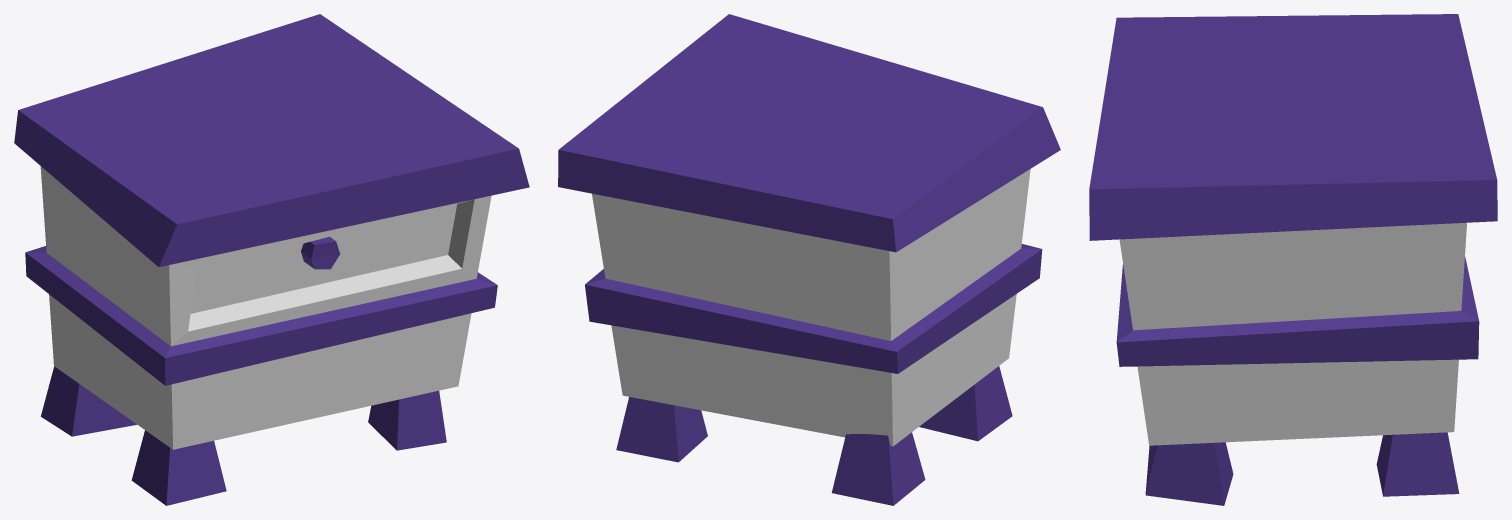
Rendered from desk_test.fbx.
3 views of the same model, side by side, from view 1: azimuth 30°, elevation 25°; view 2: azimuth 150°, elevation 25°; view 3: azimuth 270°, elevation 25° (orthographic). The views are drawn at different scales.
Visible parts, largest first — view 1: desk; view 2: desk; view 3: desk.
Boxes of the visible parts, x1,y1,x2,y2 form: desk: [14, 14, 529, 505]; desk: [558, 14, 1060, 505]; desk: [1089, 14, 1497, 505].
Bounding box in the file's own units: 88.67 × 72.25 × 79.59.
